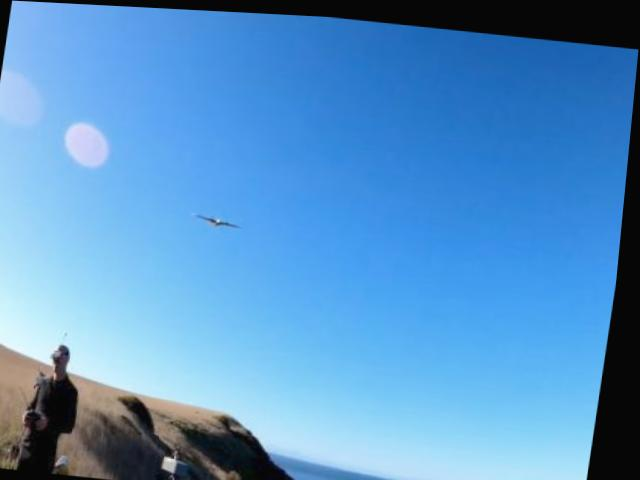uav: (193, 207, 246, 231)
